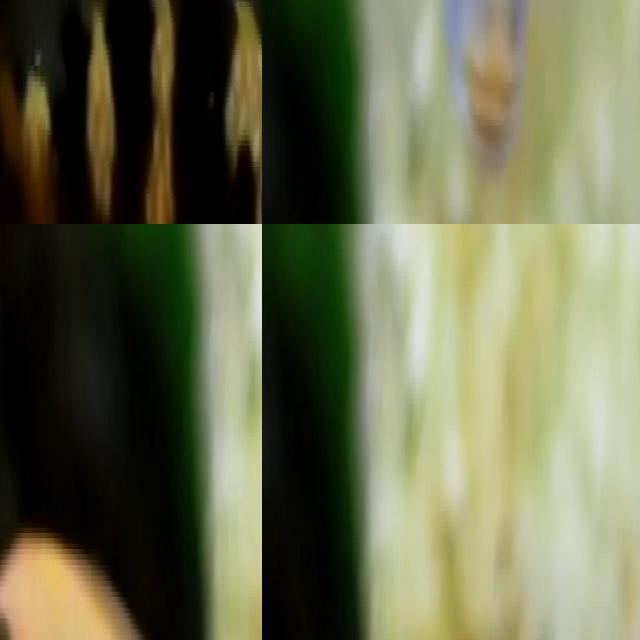fish: (0, 0, 262, 224), (0, 501, 176, 640)
